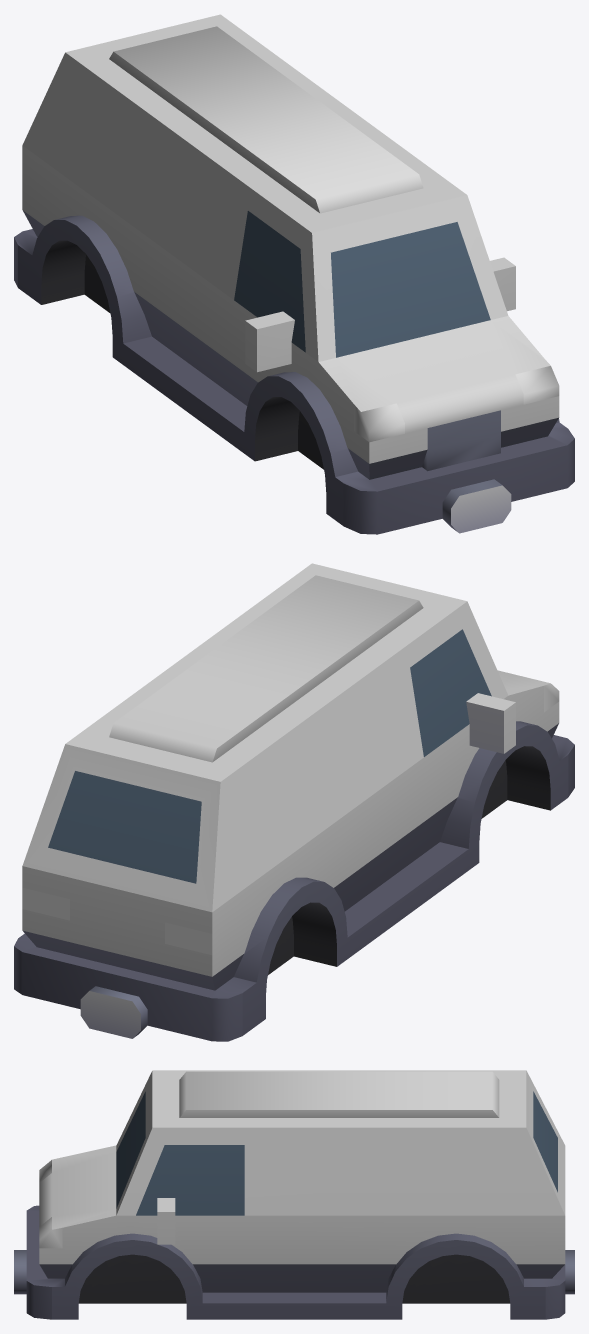
File: van.glb
The picture shows the model from 3 angles, top to bottom: view 1: azimuth 30°, elevation 25°; view 2: azimuth 150°, elevation 25°; view 3: azimuth 270°, elevation 25°; orthographic projection. The views are drawn at different scales.
Visible parts, largest first — view 1: paint, trim, glass, light_head; view 2: paint, trim, glass, light_tail; view 3: paint, trim, glass, light_head.
Part boxes in pixels (x1=…): paint: x1=22, y1=14, x2=559, y2=463; trim: x1=14, y1=210, x2=574, y2=534; glass: x1=234, y1=211, x2=490, y2=357; light_head: x1=354, y1=366, x2=559, y2=442; paint: x1=22, y1=563, x2=559, y2=976; trim: x1=14, y1=702, x2=574, y2=1041; glass: x1=48, y1=629, x2=491, y2=883; light_tail: x1=22, y1=887, x2=212, y2=955; paint: x1=39, y1=1070, x2=565, y2=1264; trim: x1=14, y1=1205, x2=574, y2=1319; glass: x1=116, y1=1091, x2=557, y2=1215; light_head: x1=39, y1=1160, x2=62, y2=1248.
Bounding box in the file's own units: 2.1 × 2 × 5.2.
